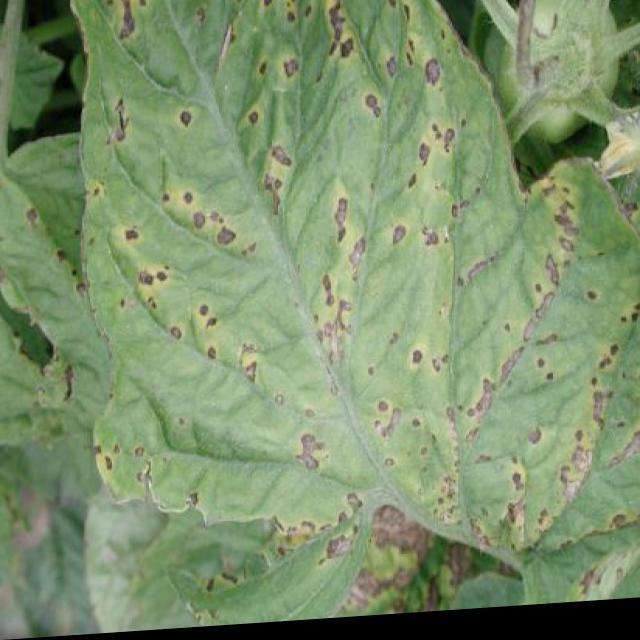Tomato late blight leaf: (42, 0, 632, 621)
